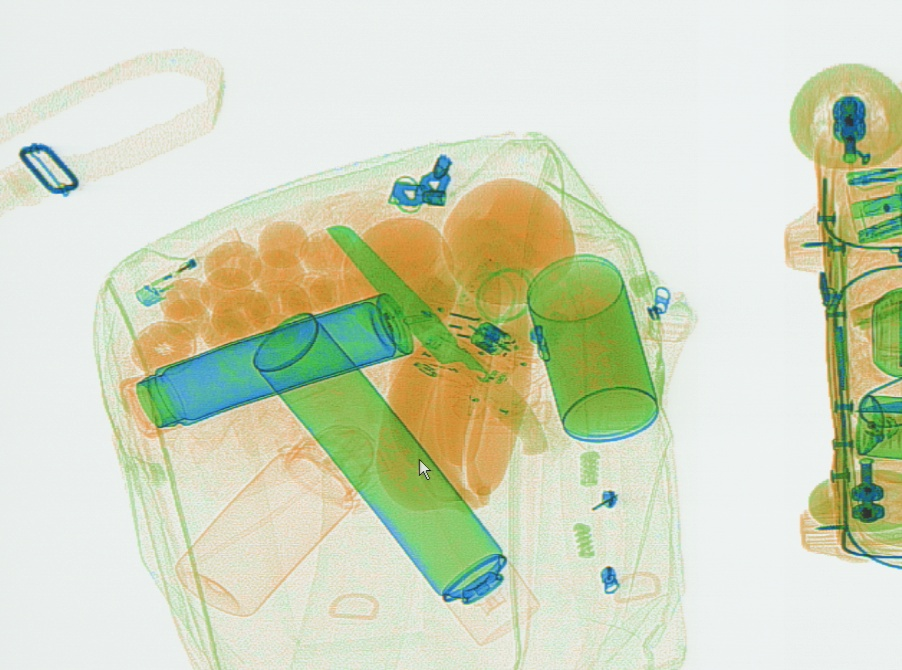knife: (323, 223, 547, 456)
lighter: (130, 224, 246, 307)
pressure: (250, 311, 541, 647)
